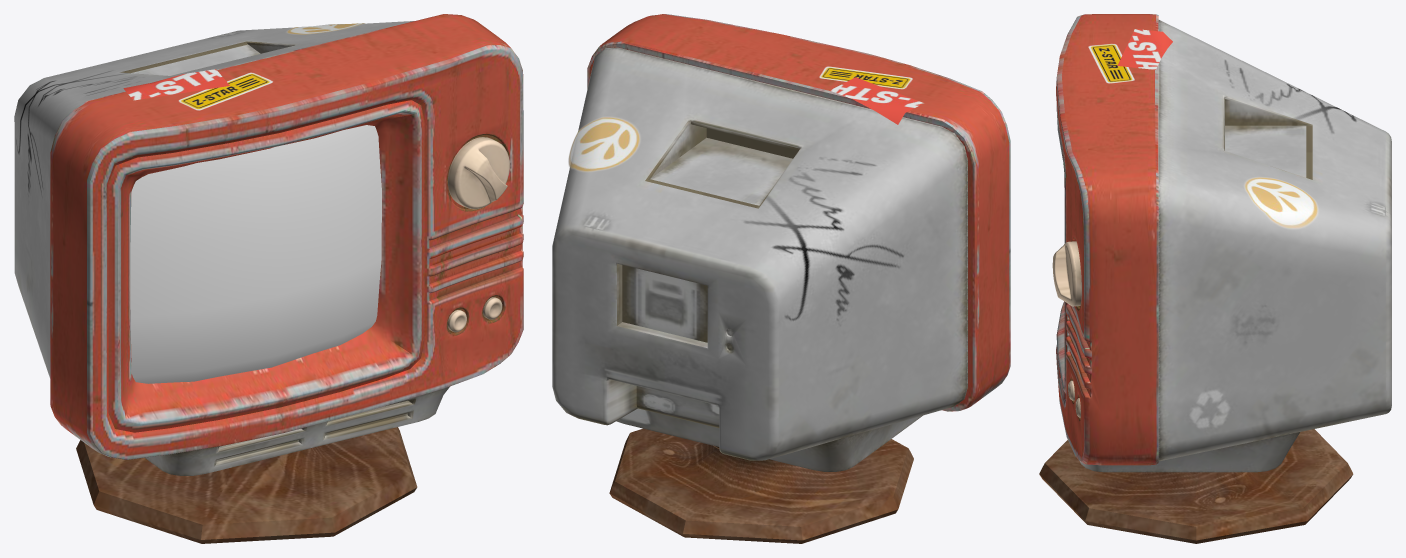
The model's file is tv-processed.glb.
3 renders of one model, left to right at view 1: azimuth 30°, elevation 25°; view 2: azimuth 150°, elevation 25°; view 3: azimuth 270°, elevation 25°, orthographic. The views are drawn at different scales.
Visible parts, largest first — view 1: TV_Solo, TV_Screen; view 2: TV_Solo; view 3: TV_Solo.
Part boxes in pixels (x1=…): TV_Solo: x1=14, y1=14, x2=523, y2=543; TV_Screen: x1=130, y1=125, x2=381, y2=383; TV_Solo: x1=552, y1=14, x2=1010, y2=543; TV_Solo: x1=1039, y1=14, x2=1391, y2=543.
Bounding box in the file's own units: 62.67 × 59.93 × 49.32.
1 material, 1 textured.
